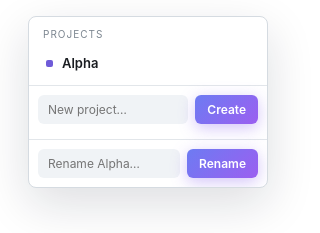
Test: ProjectSwitcher › deduplicates by Project ID and refreshes after rename
The width and height of the screenshot is (320, 233).
Expected: the number of buttons "Alpha" is 1, [37,47,259,79]
Type "Renamed Alpha" into the field named "Rename current project". click: coordinates (109, 164)
box: [38,149,180,178]
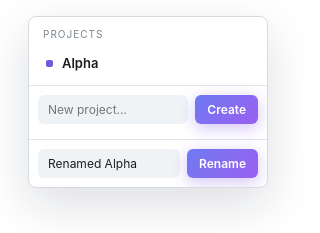
Click the button "Rename". click: coordinates (223, 164)
box: [187,149,258,178]
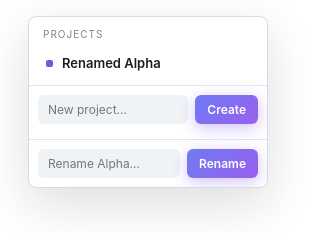
Now the button "Renamed Alpha" is shown, box [37,47,259,79]
